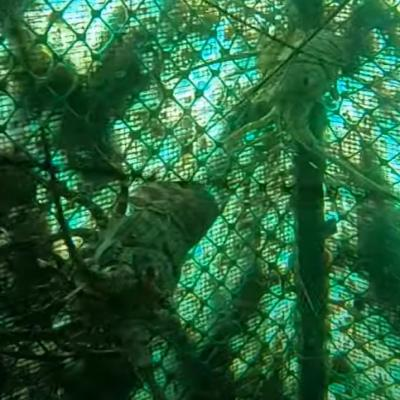lobster: (62, 181, 224, 364), (257, 29, 355, 147)
